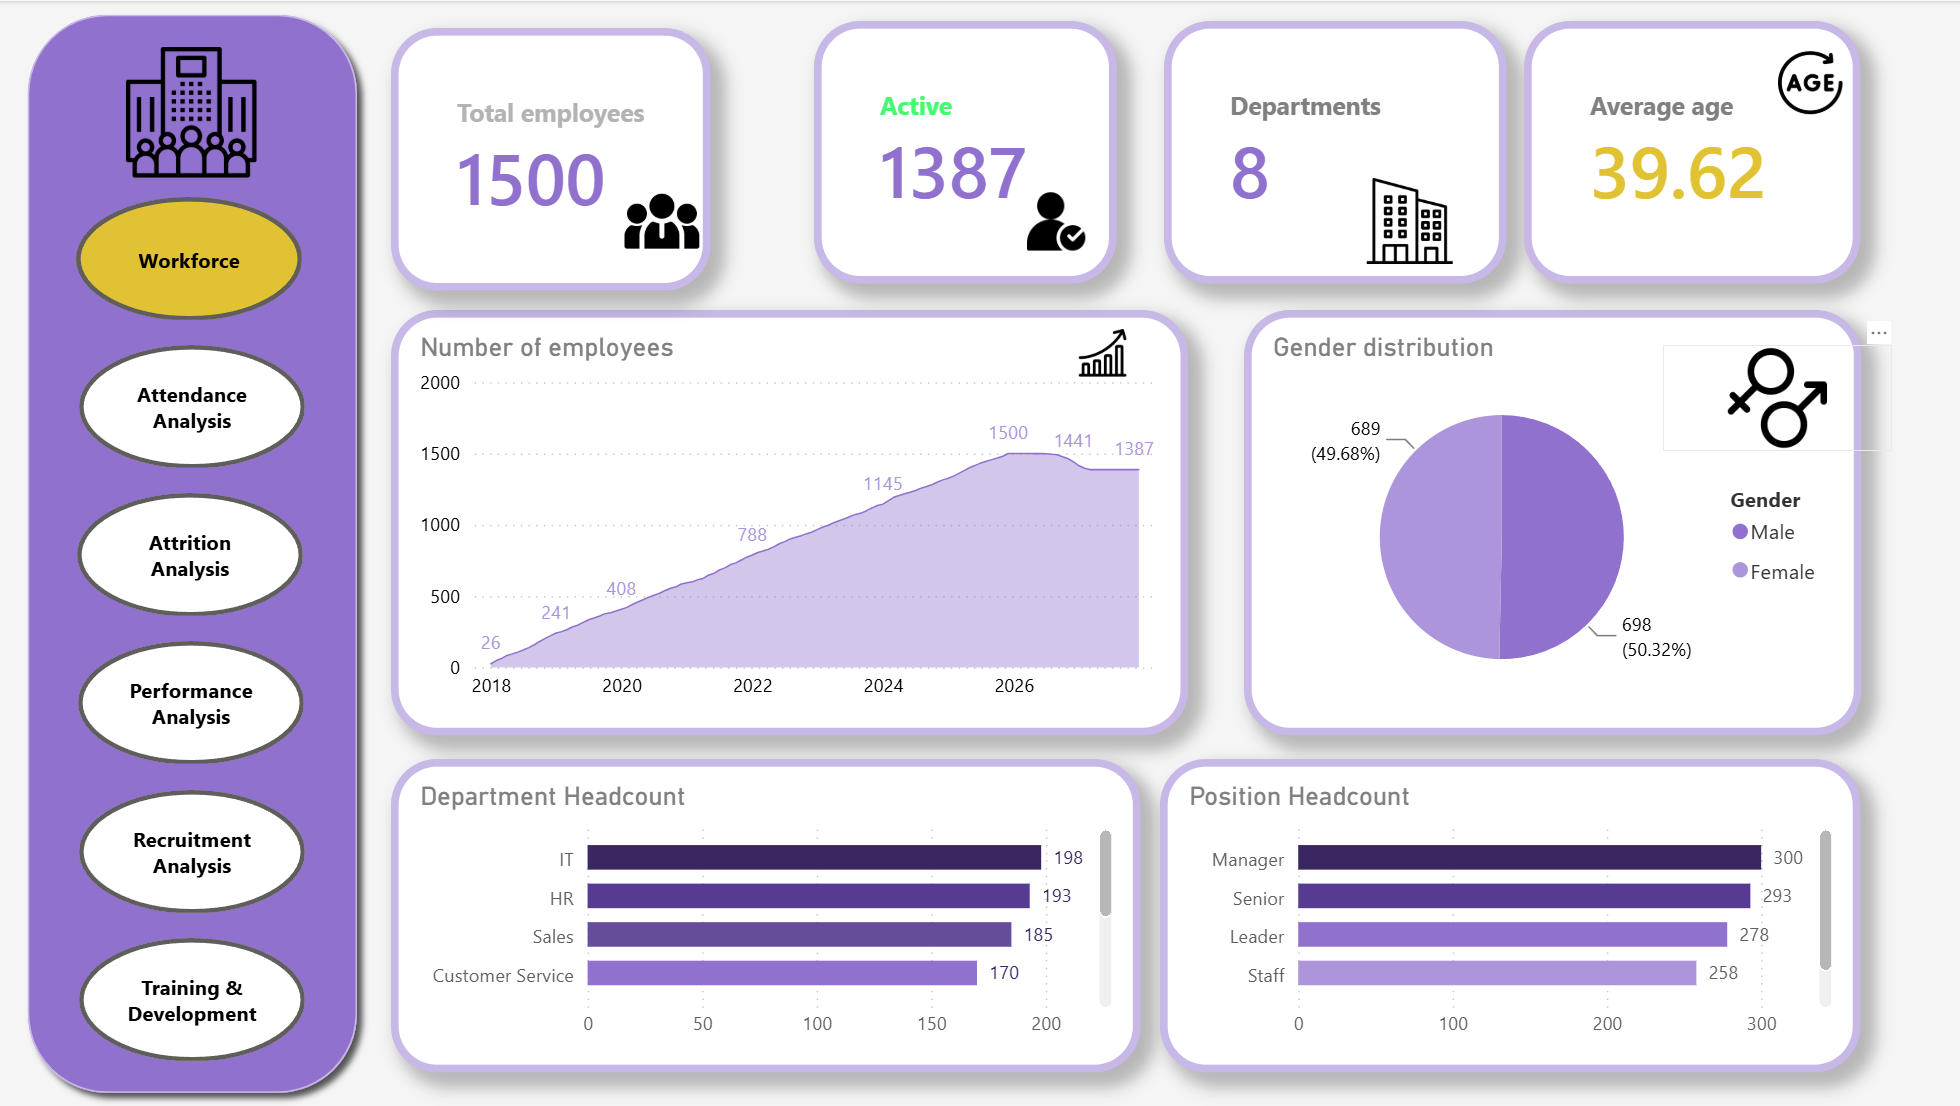

This screenshot's page, from the dashboard's own definition file:
{"tool":"powerbi","page":{"name":"Workforce","canvas":[1280,720],"ordinal":0},"visuals":[{"type":"cardVisual","fields":{"Data":["ALL MEASURES.Total Employees"]},"box":[255.1,17.6,208.3,170.6],"z":0,"group":"g1"},{"type":"areaChart","title":"Number of employees","fields":{"Category":["DateTable.Date.Variation.Date Hierarchy.Year","DateTable.Date.Variation.Date Hierarchy.Month","DateTable.Date.Variation.Date Hierarchy.Day"],"Y":["ALL MEASURES.Headcount_at_date"]},"box":[255.2,201.2,518.9,276.7],"z":0},{"type":"shape","box":[9.8,0,232.3,719.8],"z":1000},{"type":"image","box":[405.6,111.4,52.1,63.2],"z":1000,"group":"g1"},{"type":"clusteredBarChart","title":"Department Headcount","fields":{"Category":["Departments.Department Name"],"Y":["ALL MEASURES.Active_employees"]},"box":[255.2,493.5,488.3,204.4],"z":2000},{"type":"actionButton","box":[52.1,224.1,147.2,80.5],"z":3000},{"type":"pieChart","title":"Gender distribution","fields":{"Category":["Employees.Gender"],"Y":["ALL MEASURES.Active_employees"]},"box":[810.6,201.2,401.7,276.7],"z":4000},{"type":"actionButton","box":[50.8,320.5,147.2,80.5],"z":5000},{"type":"cardVisual","fields":{"Data":["ALL MEASURES.Active_employees"]},"box":[530.4,13,197,170.8],"z":6000,"group":"g2"},{"type":"clusteredBarChart","title":"Position Headcount","fields":{"Category":["Employees.Position"],"Y":["ALL MEASURES.Active_employees"]},"box":[755.9,493.5,456.4,204.4],"z":6000},{"type":"actionButton","box":[51.4,417,147.2,80.5],"z":7000},{"type":"group","id":"g1","title":"Group 1","box":[255.1,17.6,208.3,170.6],"z":8000},{"type":"actionButton","box":[52.1,513.4,147.2,80.5],"z":9000},{"type":"image","box":[1083.4,224,149.1,69],"z":10000},{"type":"actionButton","box":[52.4,609.9,147.2,80.5],"z":11000},{"type":"cardVisual","fields":{"Data":["ALL MEASURES.Total_departments"]},"box":[758.7,13,223.3,170.6],"z":12000},{"type":"group","id":"g2","title":"Group 2","box":[530.4,13,197.3,170.6],"z":13000},{"type":"cardVisual","fields":{"Data":["ALL MEASURES.Average_age"]},"box":[992.9,13,219.4,170.6],"z":14000},{"type":"image","box":[668.9,118.4,38.4,49.5],"z":14001,"group":"g2"},{"type":"image","box":[1158.3,26.7,41.7,52.7],"z":15000},{"type":"image","box":[870.5,115.2,95.7,56],"z":16000},{"type":"actionButton","box":[50.1,127.6,147.2,80.5],"z":17000},{"type":"image","box":[640,213.6,156.9,31.3],"z":18000},{"type":"image","box":[13.7,29.9,222.7,85.3],"z":19000}]}

Visuals, with their boxes in screenshot pixels (x1, y1, x2, y2), scaled from the page's 1280x720 canvas onto the 1960x1106 screenshot:
cardVisual - ALL MEASURES.Total Employees: (x1=391, y1=27, x2=710, y2=289)
"Number of employees" areaChart: (x1=391, y1=309, x2=1185, y2=734)
shape: (x1=15, y1=0, x2=371, y2=1105)
image: (x1=621, y1=171, x2=701, y2=268)
"Department Headcount" clusteredBarChart: (x1=391, y1=758, x2=1138, y2=1072)
actionButton: (x1=80, y1=344, x2=305, y2=468)
"Gender distribution" pieChart: (x1=1241, y1=309, x2=1856, y2=734)
actionButton: (x1=78, y1=492, x2=303, y2=616)
cardVisual - ALL MEASURES.Active_employees: (x1=812, y1=20, x2=1114, y2=282)
"Position Headcount" clusteredBarChart: (x1=1157, y1=758, x2=1856, y2=1072)
actionButton: (x1=79, y1=641, x2=304, y2=764)
"Group 1" group: (x1=391, y1=27, x2=710, y2=289)
actionButton: (x1=80, y1=789, x2=305, y2=912)
image: (x1=1659, y1=344, x2=1887, y2=450)
actionButton: (x1=80, y1=937, x2=306, y2=1061)
cardVisual - ALL MEASURES.Total_departments: (x1=1162, y1=20, x2=1504, y2=282)
"Group 2" group: (x1=812, y1=20, x2=1114, y2=282)
cardVisual - ALL MEASURES.Average_age: (x1=1520, y1=20, x2=1856, y2=282)
image: (x1=1024, y1=182, x2=1083, y2=258)
image: (x1=1774, y1=41, x2=1838, y2=122)
image: (x1=1333, y1=177, x2=1479, y2=263)
actionButton: (x1=77, y1=196, x2=302, y2=320)
image: (x1=980, y1=328, x2=1220, y2=376)
image: (x1=21, y1=46, x2=362, y2=177)
